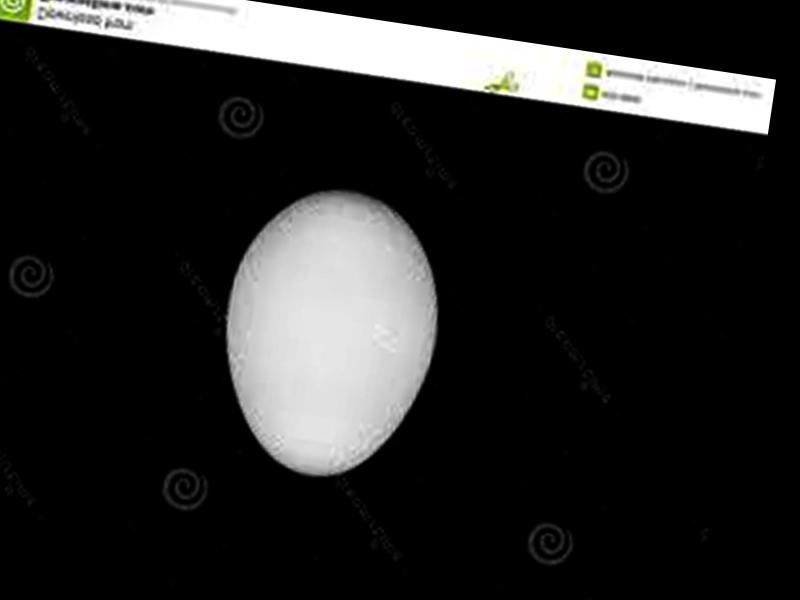Eggs: (207, 176, 460, 490)
